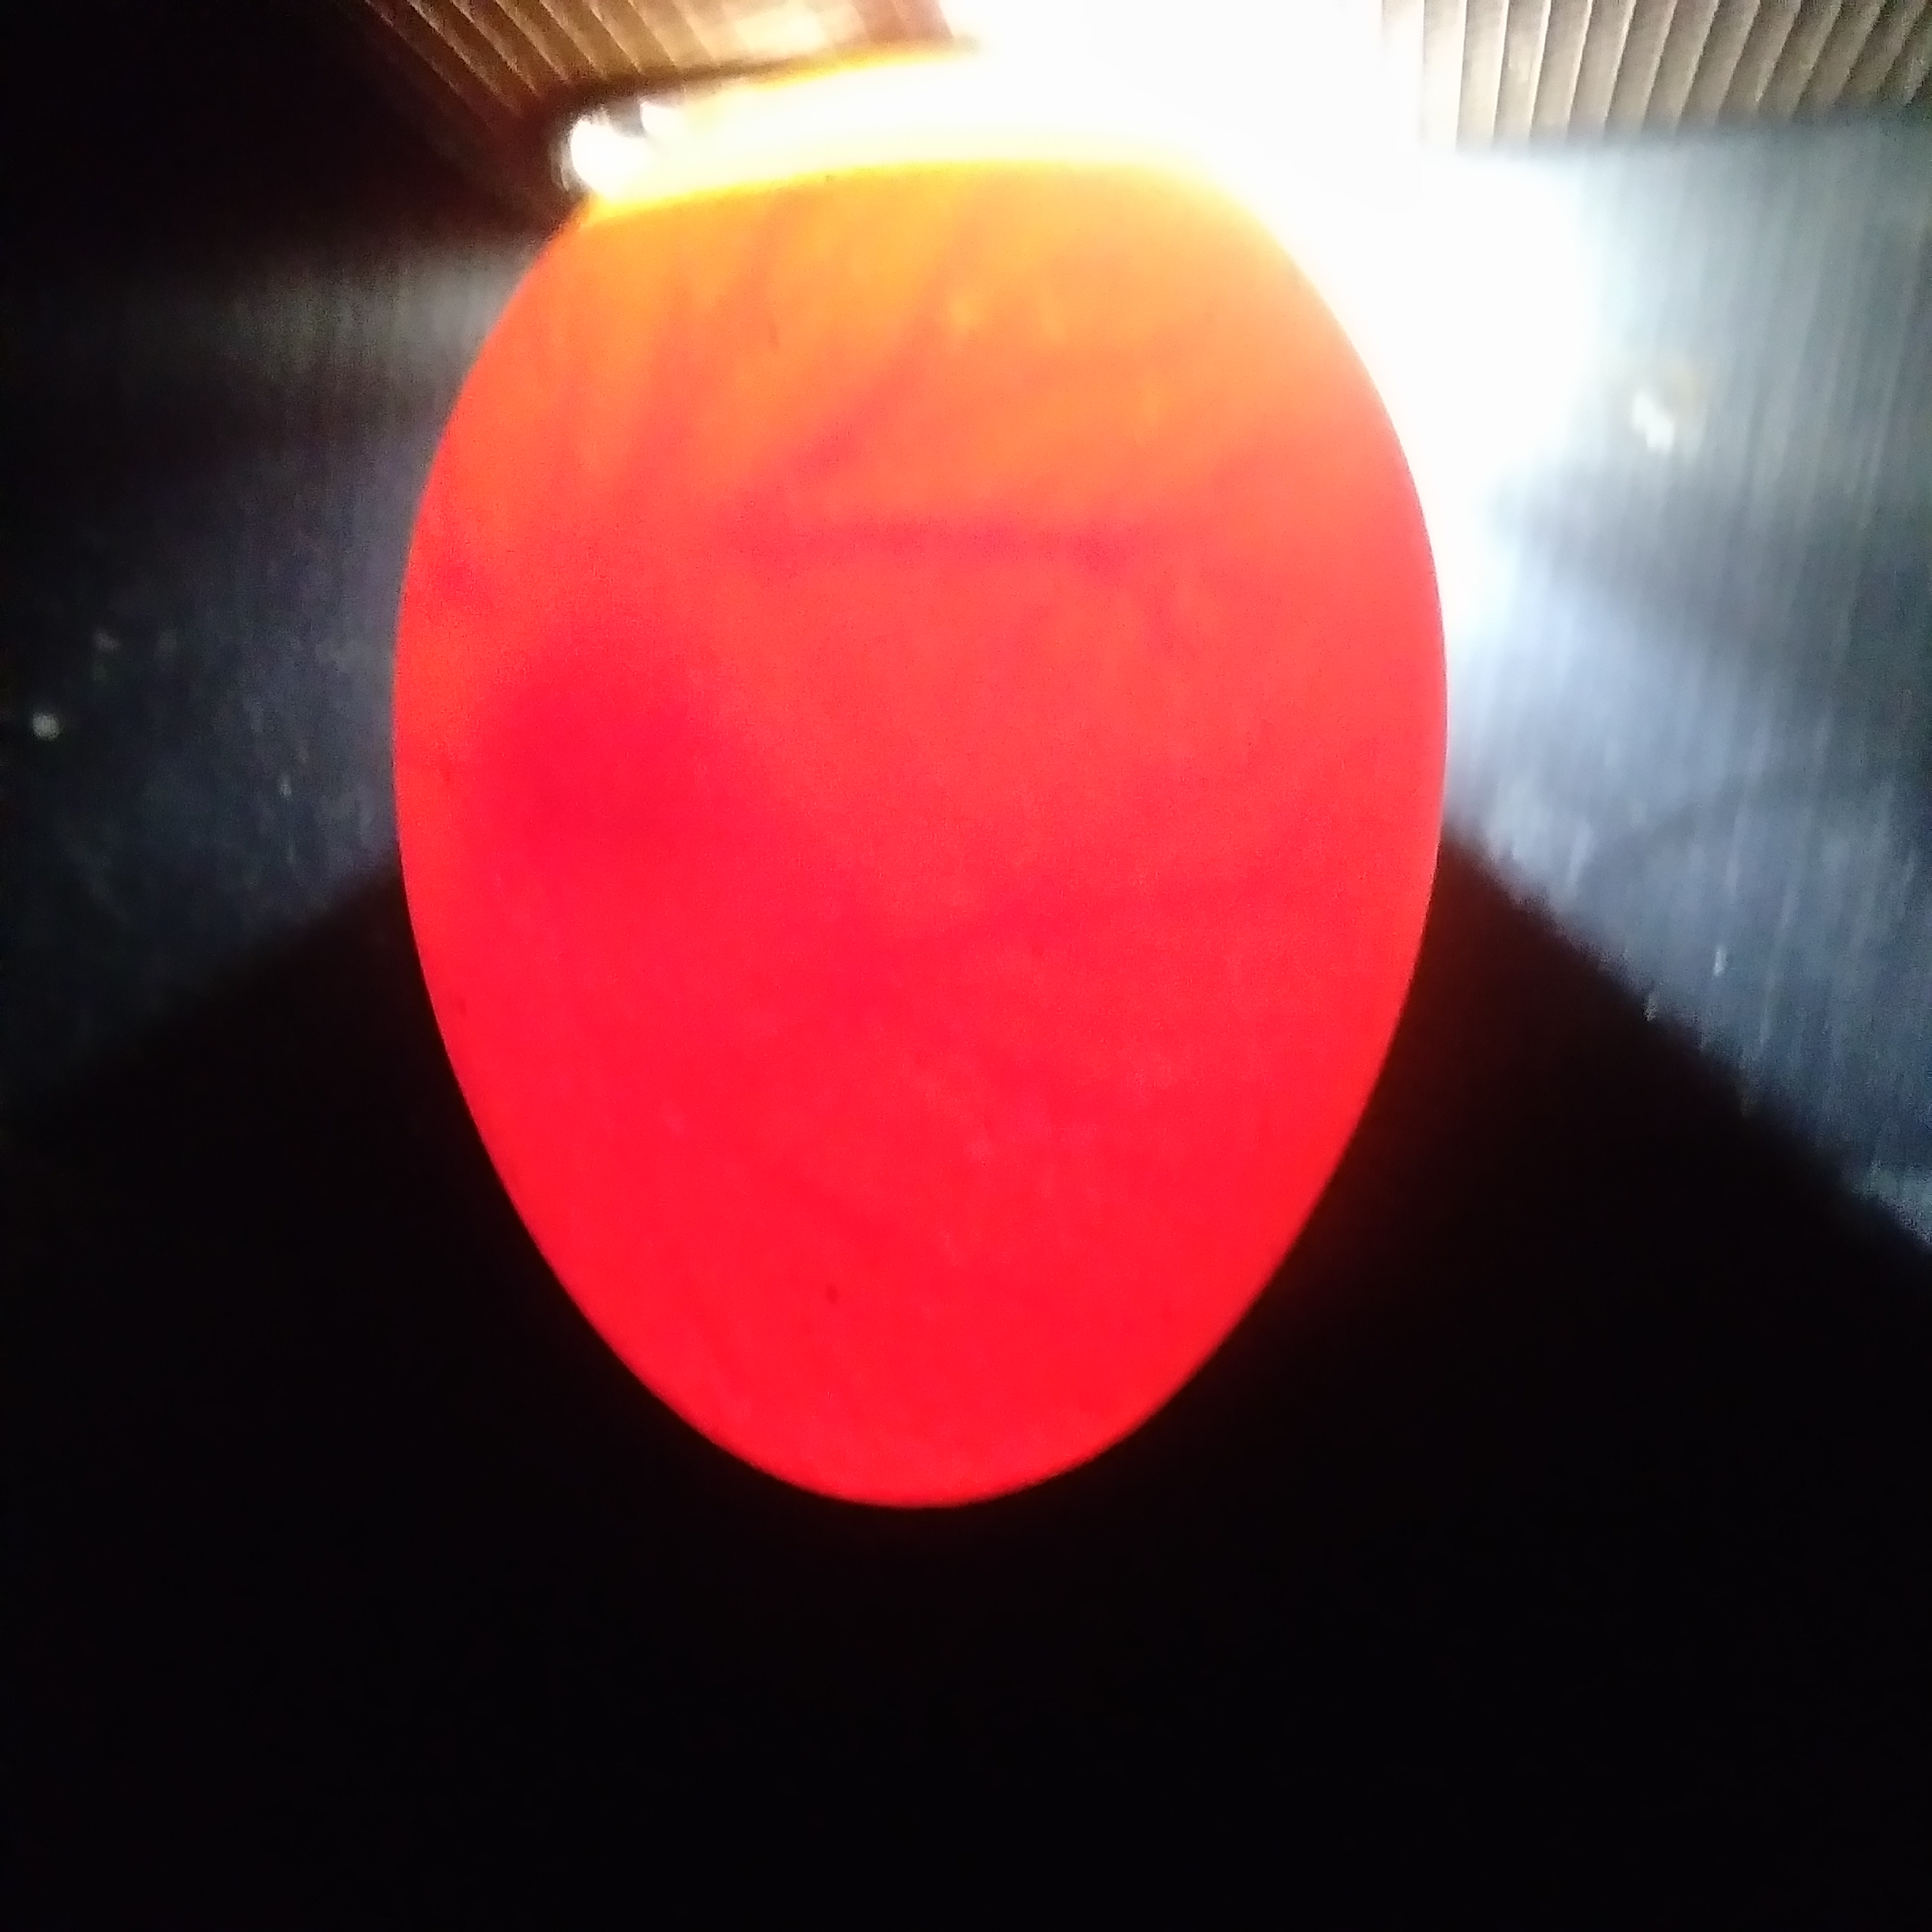bloodcell: (623, 257, 1198, 571)
